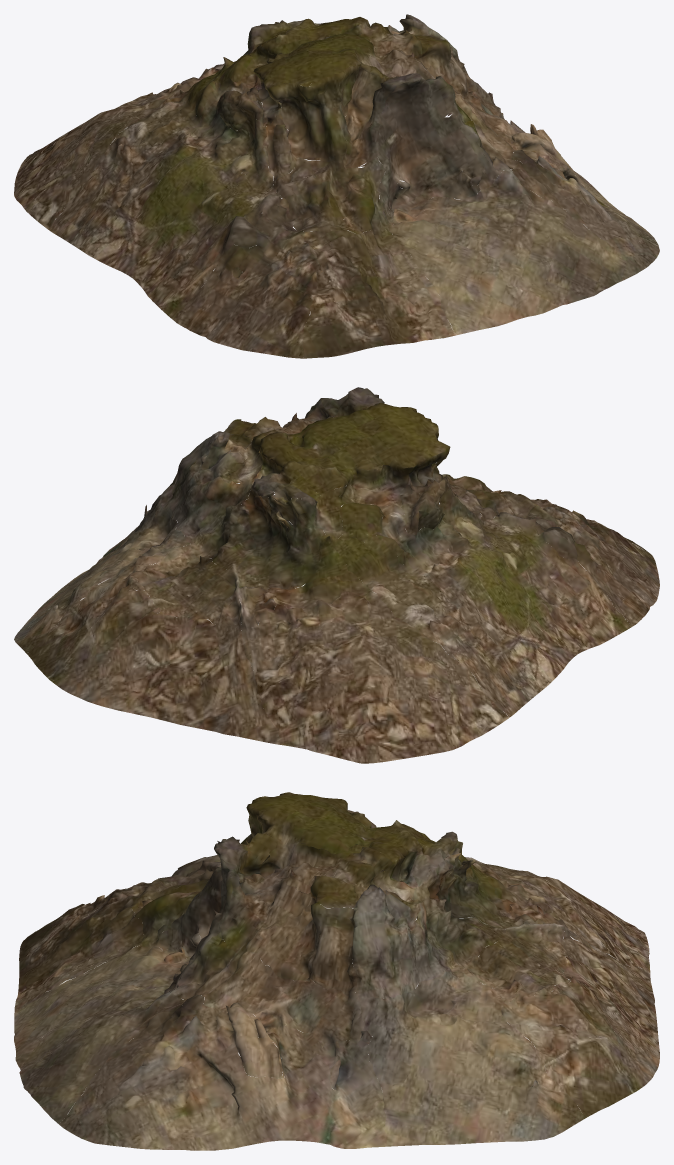
File: tree_stump_01.glb
3 views of the same model, one above another, from view 1: azimuth 30°, elevation 25°; view 2: azimuth 150°, elevation 25°; view 3: azimuth 270°, elevation 25° (orthographic). The views are drawn at different scales.
Visible parts, largest first — view 1: tree_stump_01; view 2: tree_stump_01; view 3: tree_stump_01.
Boxes of the visible parts, box(x1,y1,x2,y2) form: tree_stump_01: box(14, 14, 659, 358); tree_stump_01: box(14, 387, 659, 763); tree_stump_01: box(14, 792, 659, 1150).
Size of the model in its own units: 1.43 by 0.5723 by 1.59.
1 material, 1 textured.
